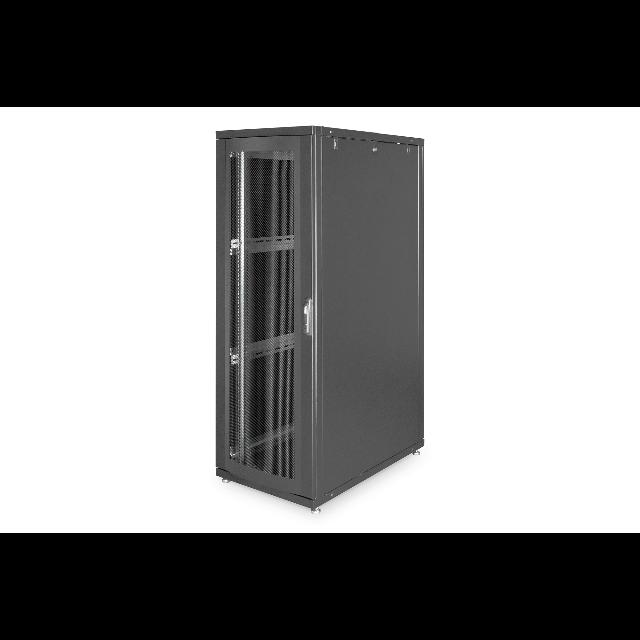Server: (208, 118, 428, 508)
